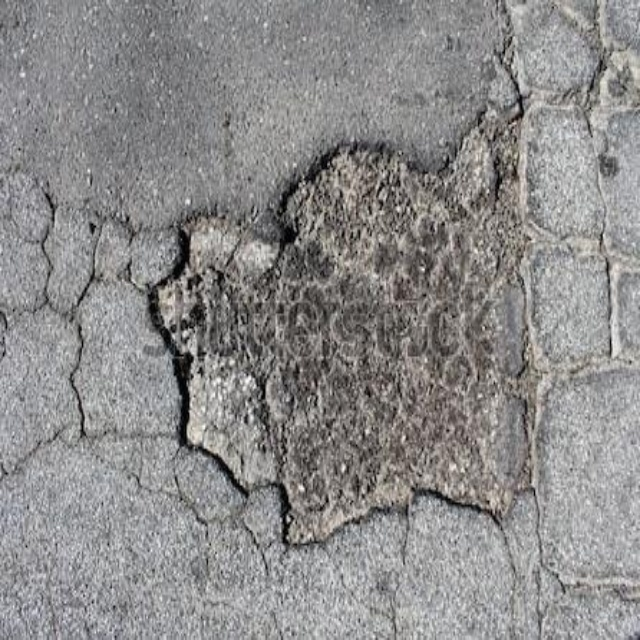pothole: (93, 110, 620, 552)
